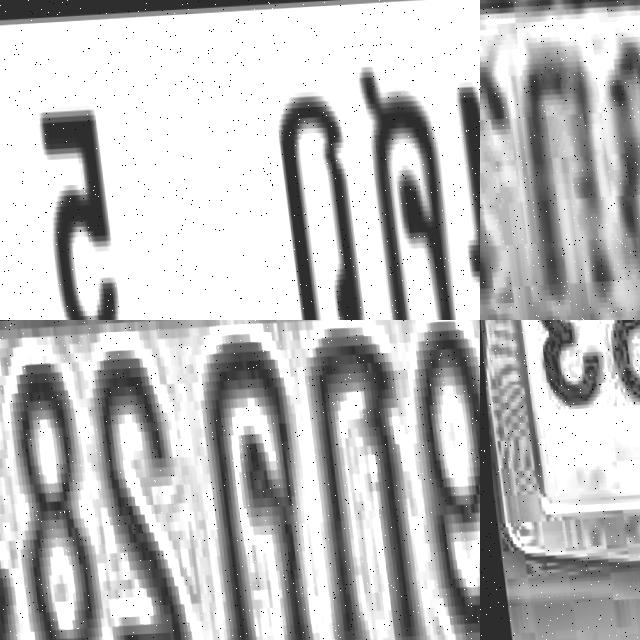license-plate: (0, 0, 480, 320), (0, 320, 480, 640), (480, 0, 640, 320), (480, 320, 640, 610)
